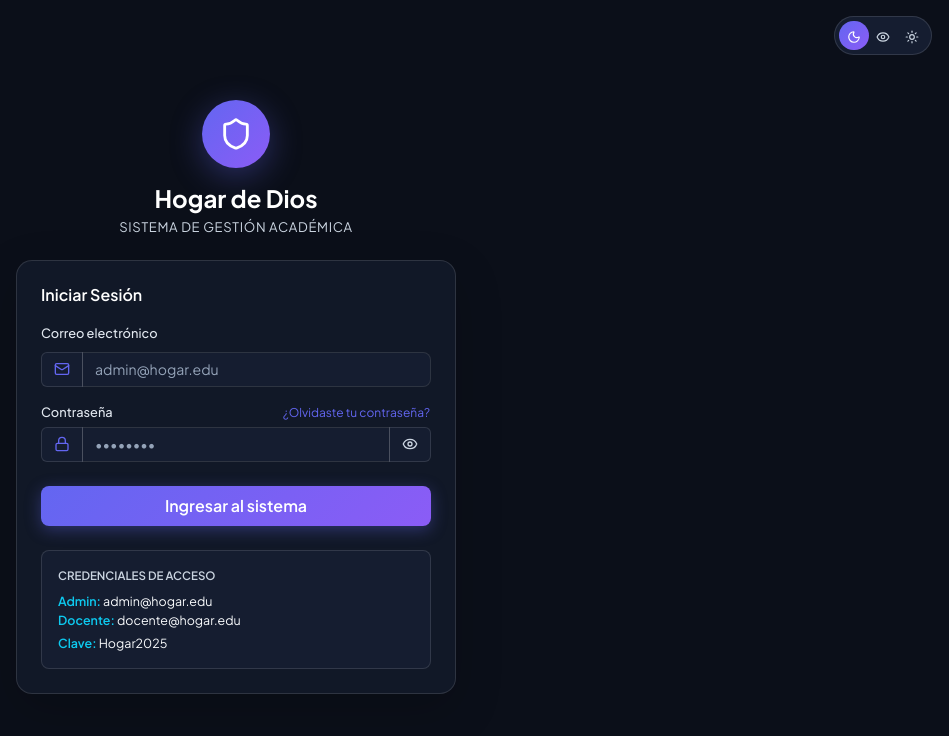
Scenario: Integración: Formulario de Login › debe mostrar error de validación cuando el correo electrónico tiene formato inválido
Type "correo-invalido" into the field with placeholder "admin@hogar.edu" at (256, 369), box [82,352,431,387]
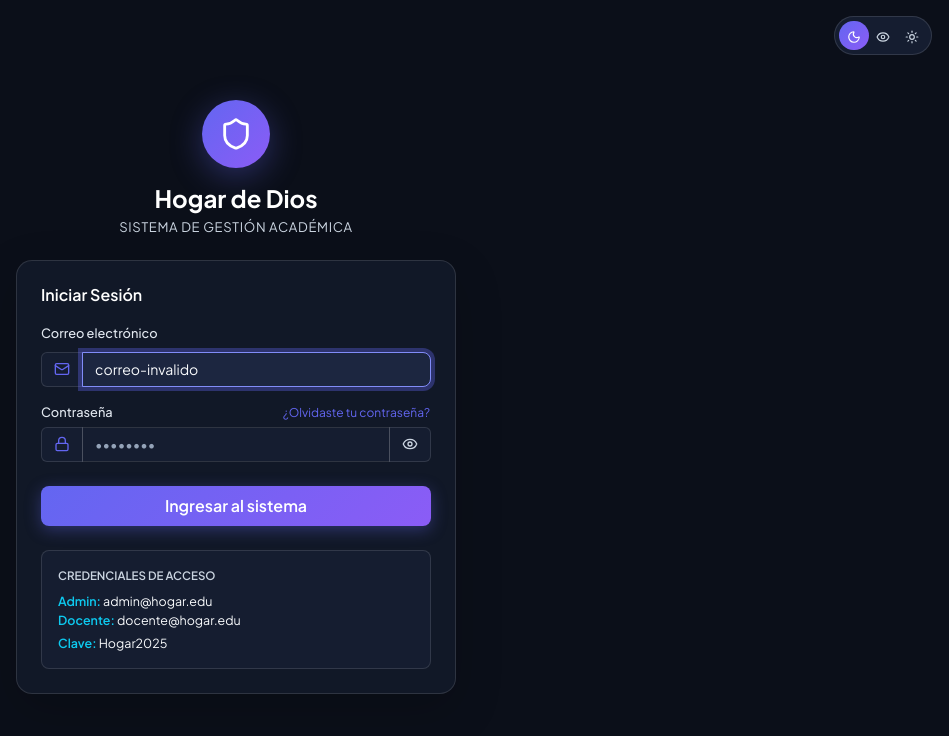
Click the button "Ingresar al sistema" at (236, 506), box [41,486,431,526]
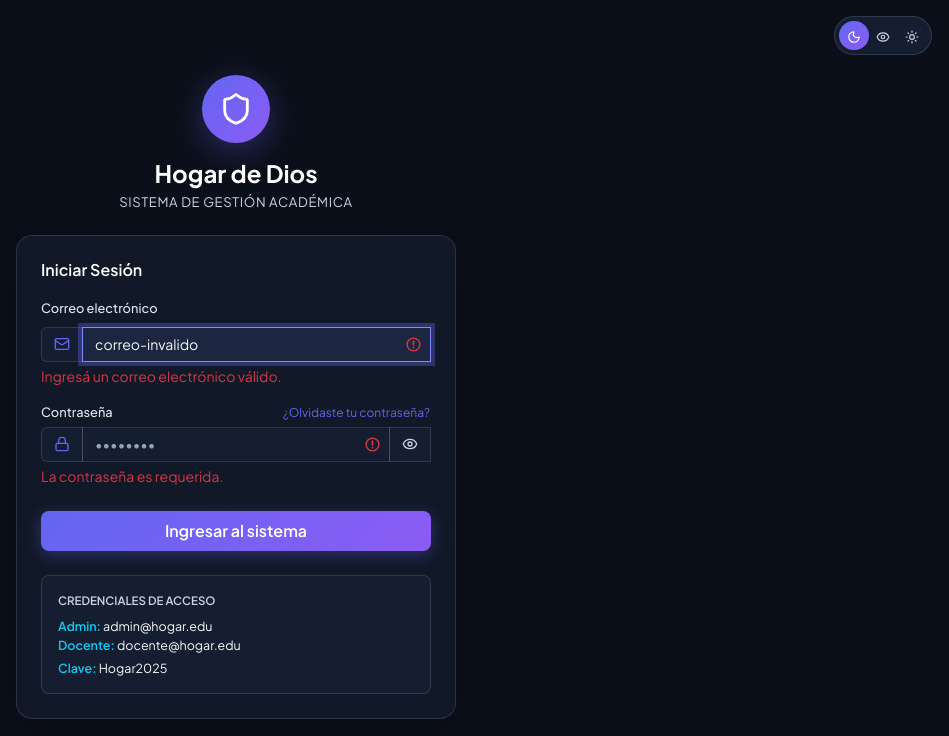
Expected: the text "Ingresá un correo electrónico válido." is shown, [41,367,282,385]
